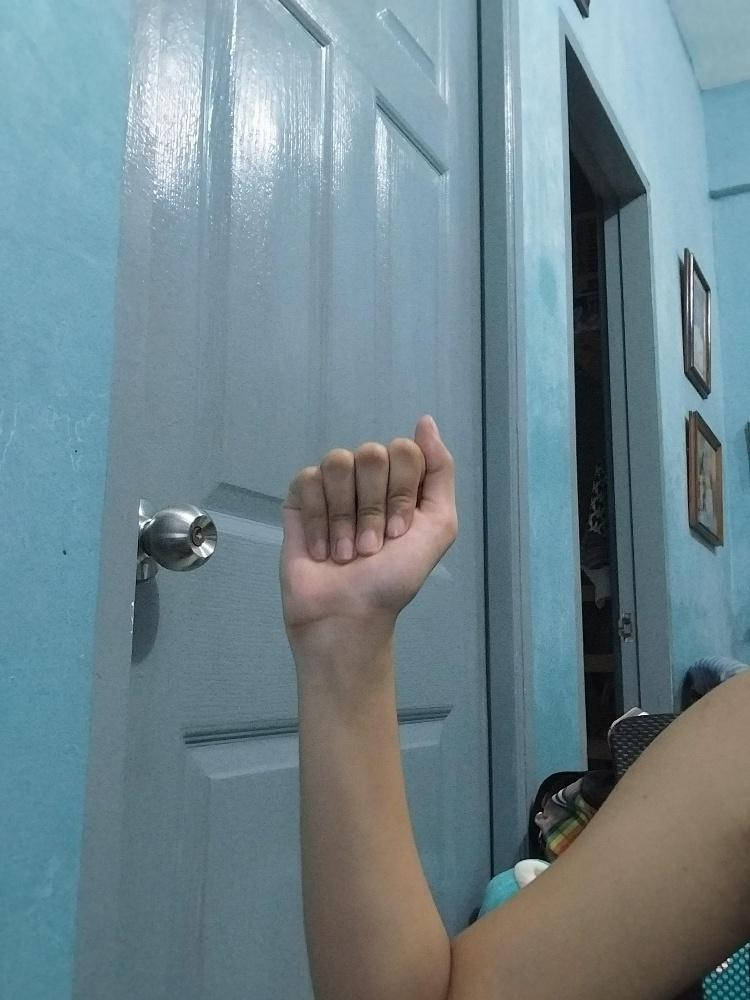a: (278, 414, 464, 617)
